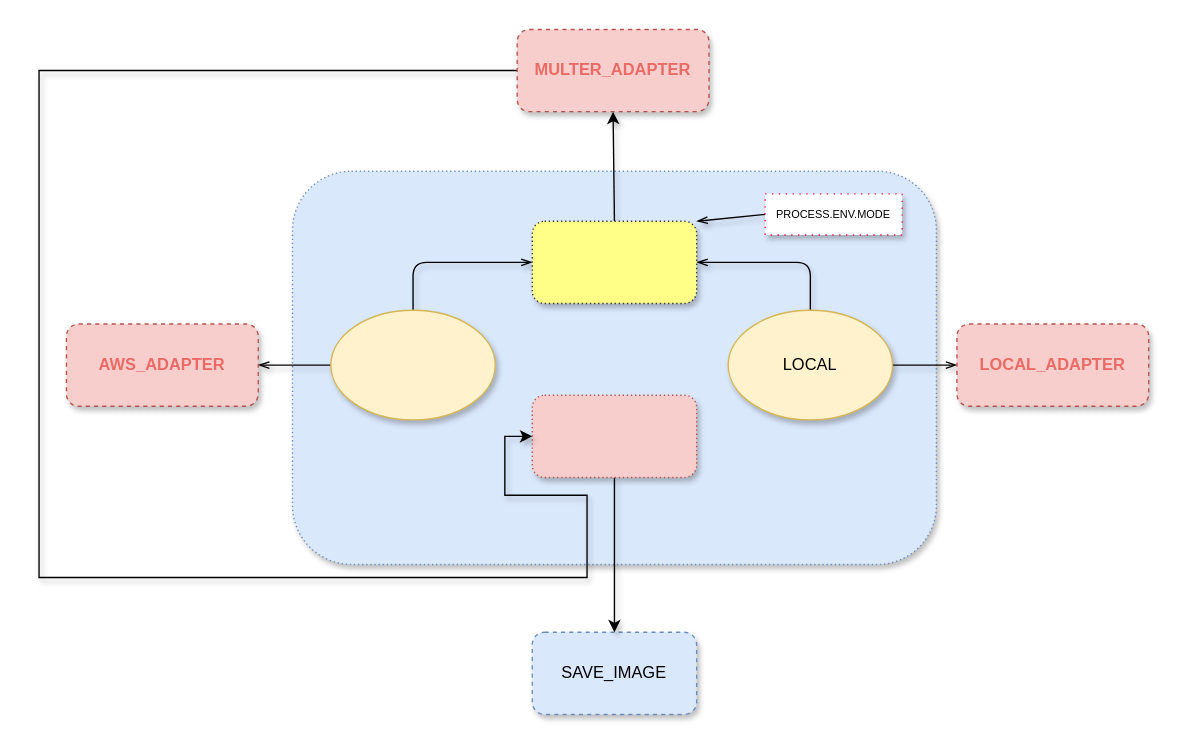
This 1181x748 diagram has some shape labels left out. The centre of each missing label's shape, as x and y in pixels:
"ONLINE" goes at point 413,366.
"STORAGE" goes at point 615,437.
"STORAGE_TYPE PROXY" goes at point 615,263.
